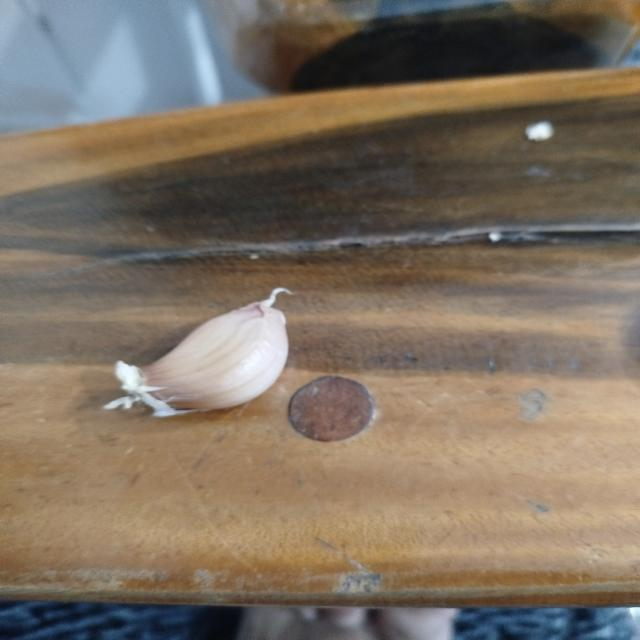garlic: (102, 286, 296, 418)
